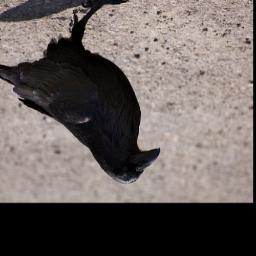Crow: (0, 0, 163, 185)
